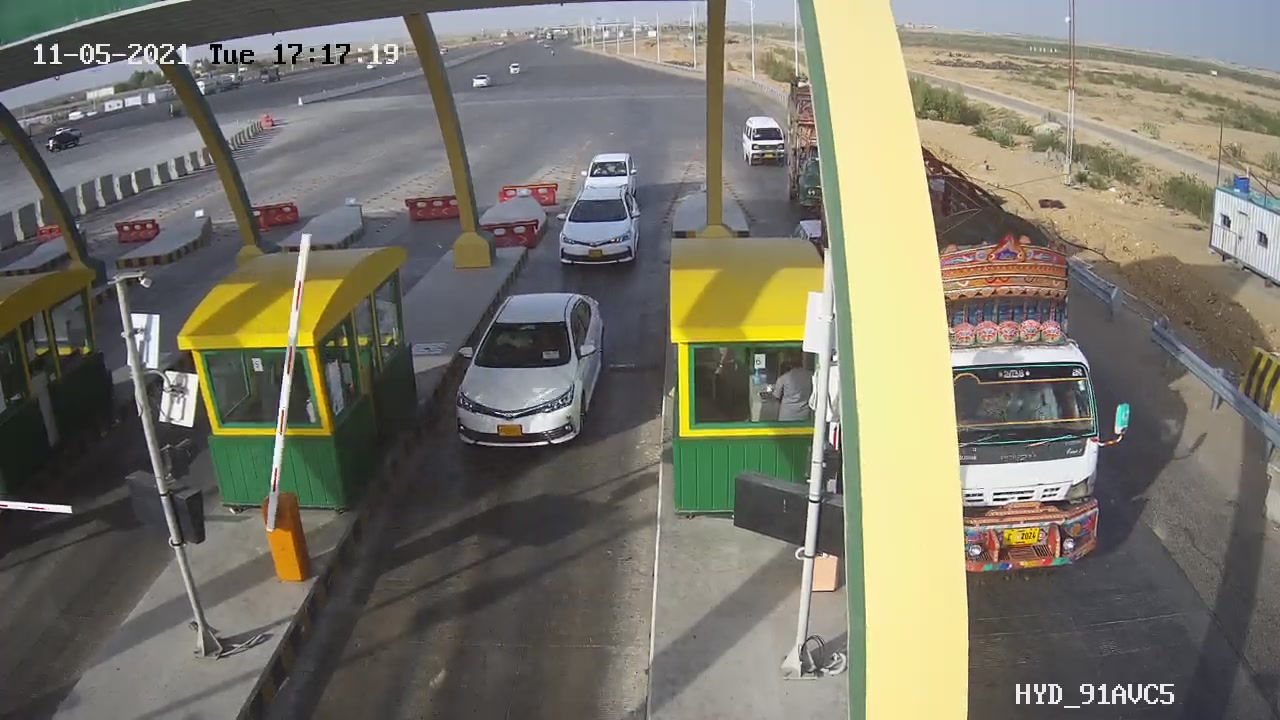F1: (444, 281, 618, 462), (546, 178, 652, 273)
